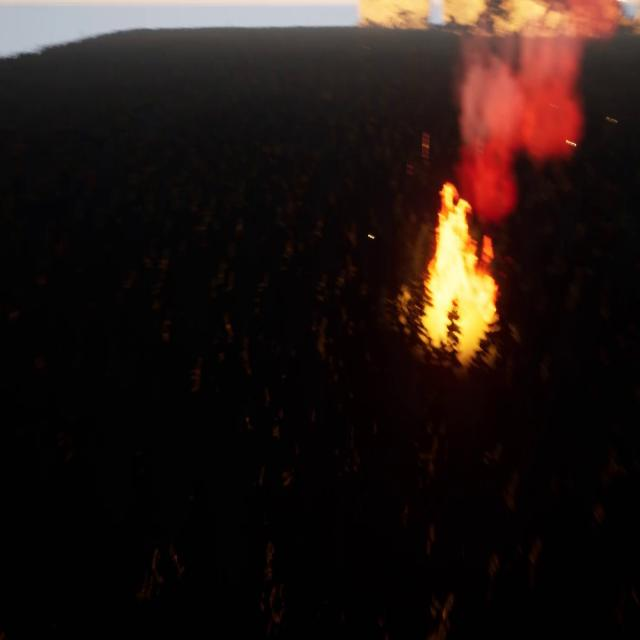fire: (420, 179, 500, 352)
smoke: (462, 12, 581, 213)
